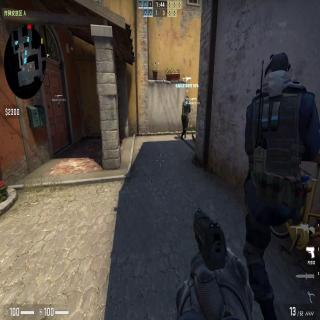CT-Body: (181, 95, 191, 141)
CT-Head: (260, 53, 292, 88), (185, 95, 189, 101)
